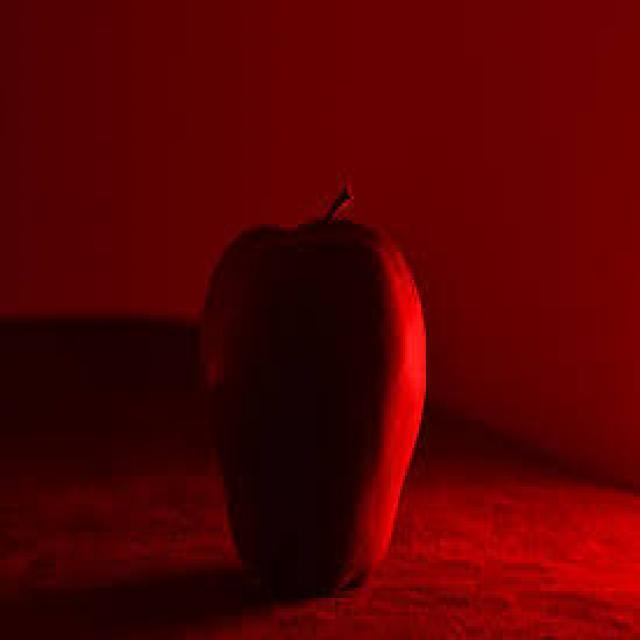Rotten: (204, 222, 438, 588)
